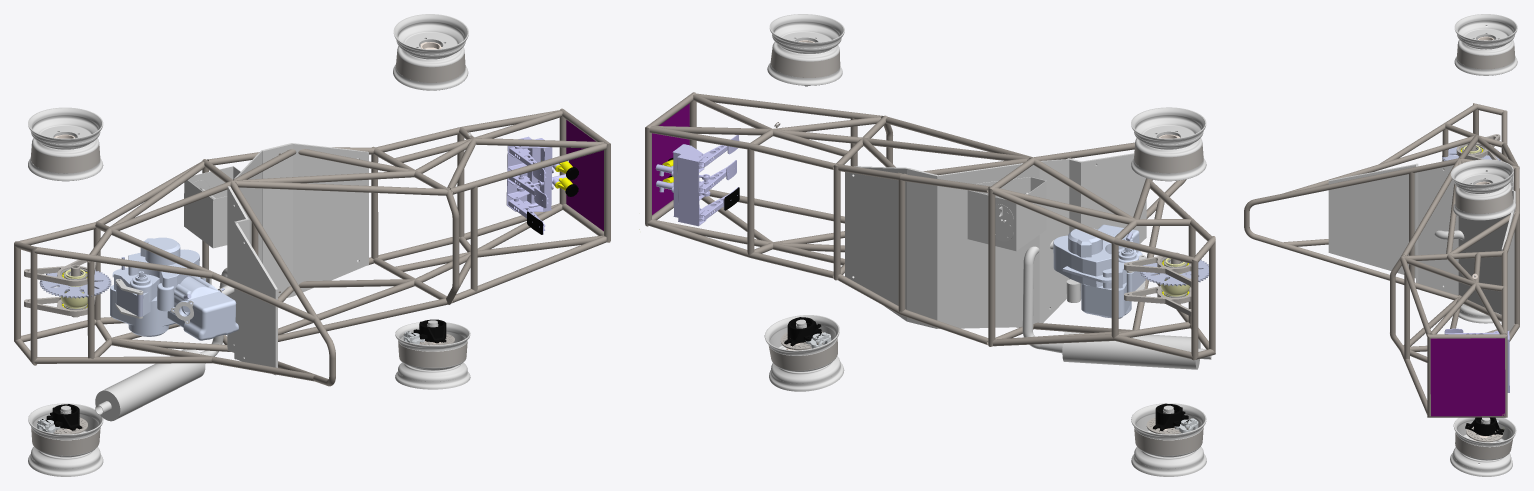
The model's file is car.glb.
The picture shows the model from 3 angles, left to right: view 1: azimuth 30°, elevation 25°; view 2: azimuth 150°, elevation 25°; view 3: azimuth 270°, elevation 25°; orthographic projection. The views are drawn at different scales.
Visible parts, largest first — view 1: FSAEChassis_HM02_final-1, Firewall-2, 006-33 rim-1 (×4), KTM 390-1, muffler-1, Fuel tank 01-2, AIP-1, Base.CATPart-1, STD50T-1.IGS-1, Support L & R Mirror-1.IGS-1, Support L & R Mirror-1.IGS-2, Hadron upright ITE(1)-1; view 2: FSAEChassis_HM02_final-1, Firewall-2, 006-33 rim-1 (×4), KTM 390-1, Fuel tank 01-2, muffler-1, AIP-1, Base.CATPart-1, Hadron upright ITE(1)-1 (×2), exhaust 4.0-1, Support L & R Mirror-1.IGS-2, Support L & R Mirror-1.IGS-1 (+2 smaller); view 3: FSAEChassis_HM02_final-1, Firewall-2, 006-33 rim-1 (×4), AIP-1, Hadron upright ITE(1)-1, Support L & R Mirror-1.IGS-1.
Boxes of the visible parts, bbox=[...] form: FSAEChassis_HM02_final-1: bbox=[14, 108, 610, 386]; Firewall-2: bbox=[227, 143, 368, 375]; 006-33 rim-1 (×4): bbox=[28, 14, 470, 476]; KTM 390-1: bbox=[110, 237, 238, 340]; muffler-1: bbox=[95, 349, 205, 421]; Fuel tank 01-2: bbox=[184, 166, 240, 248]; AIP-1: bbox=[566, 120, 603, 231]; Base.CATPart-1: bbox=[506, 137, 552, 211]; STD50T-1.IGS-1: bbox=[39, 269, 111, 298]; Support L & R Mirror-1.IGS-1: bbox=[24, 255, 97, 286]; Support L & R Mirror-1.IGS-2: bbox=[24, 287, 96, 316]; Hadron upright ITE(1)-1: bbox=[46, 404, 82, 430]; FSAEChassis_HM02_final-1: bbox=[645, 92, 1215, 360]; Firewall-2: bbox=[845, 153, 1146, 328]; 006-33 rim-1 (×4): bbox=[764, 14, 1206, 476]; KTM 390-1: bbox=[1053, 224, 1145, 318]; Fuel tank 01-2: bbox=[967, 177, 1046, 251]; muffler-1: bbox=[1062, 331, 1200, 369]; AIP-1: bbox=[652, 103, 689, 214]; Base.CATPart-1: bbox=[673, 144, 699, 225]; Hadron upright ITE(1)-1 (×2): bbox=[784, 317, 1188, 430]; exhaust 4.0-1: bbox=[1022, 240, 1053, 349]; Support L & R Mirror-1.IGS-2: bbox=[1124, 286, 1191, 316]; Support L & R Mirror-1.IGS-1: bbox=[1124, 254, 1191, 286]; FSAEChassis_HM02_final-1: bbox=[1244, 103, 1519, 417]; Firewall-2: bbox=[1328, 163, 1515, 331]; 006-33 rim-1 (×4): bbox=[1450, 14, 1517, 476]; AIP-1: bbox=[1430, 338, 1505, 416]; Hadron upright ITE(1)-1: bbox=[1465, 417, 1504, 435]; Support L & R Mirror-1.IGS-1: bbox=[1456, 134, 1500, 160].
Bounding box in the file's own units: 2.4 × 1.44 × 1.22.
